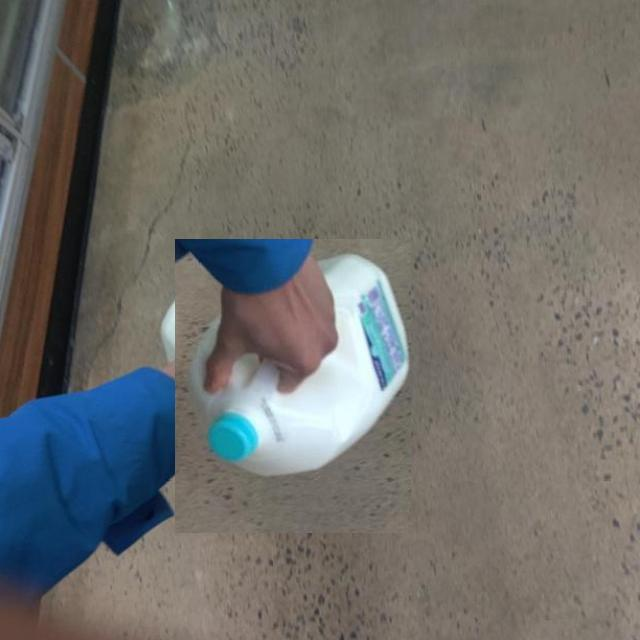Milk: (174, 240, 411, 533)
